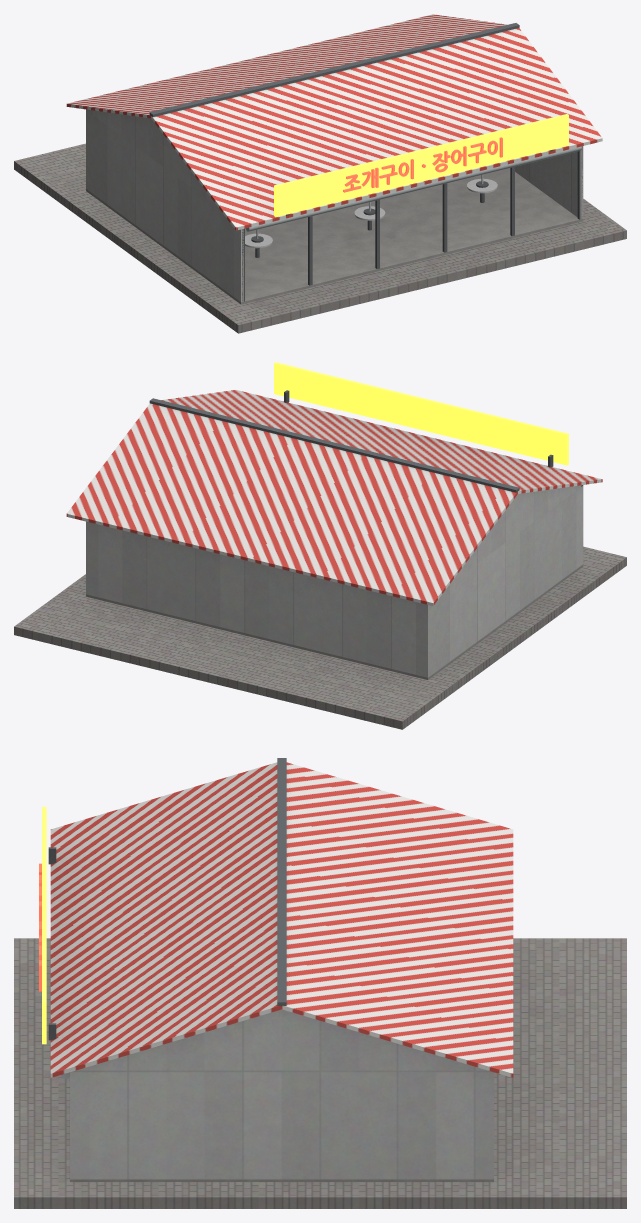
File: IlsanGrill01_LOD1.fbx
3 renders of one model, top to bottom at view 1: azimuth 30°, elevation 25°; view 2: azimuth 150°, elevation 25°; view 3: azimuth 270°, elevation 25°, orthographic. The views are drawn at different scales.
Visible parts, largest first — view 1: IlsanGrill01_LOD1; view 2: IlsanGrill01_LOD1; view 3: IlsanGrill01_LOD1.
Boxes of the visible parts, left/top/right/bottom form: IlsanGrill01_LOD1: left=14, top=14, right=626, bottom=333; IlsanGrill01_LOD1: left=14, top=362, right=626, bottom=729; IlsanGrill01_LOD1: left=14, top=758, right=626, bottom=1208.
Bounding box in the file's own units: 15.9 × 5.7 × 15.9.
1 material, 1 textured.
